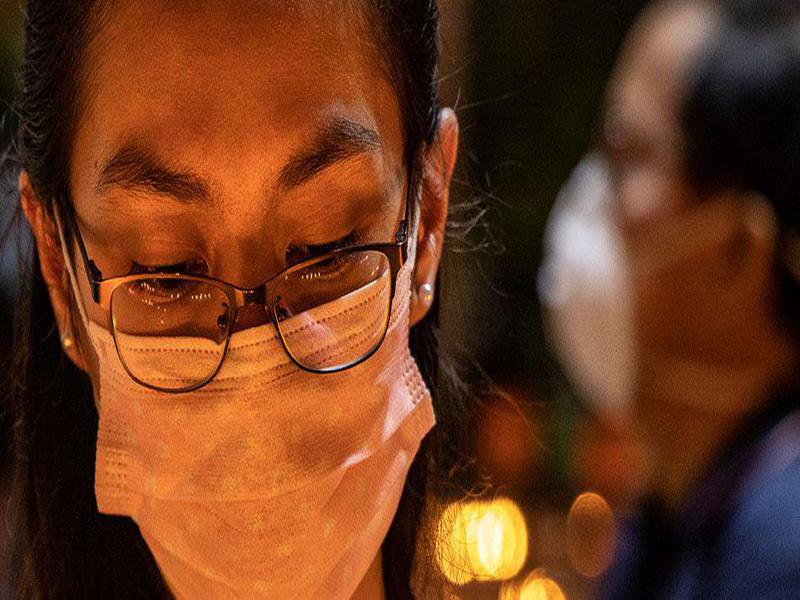with_mask: (55, 4, 437, 600)
